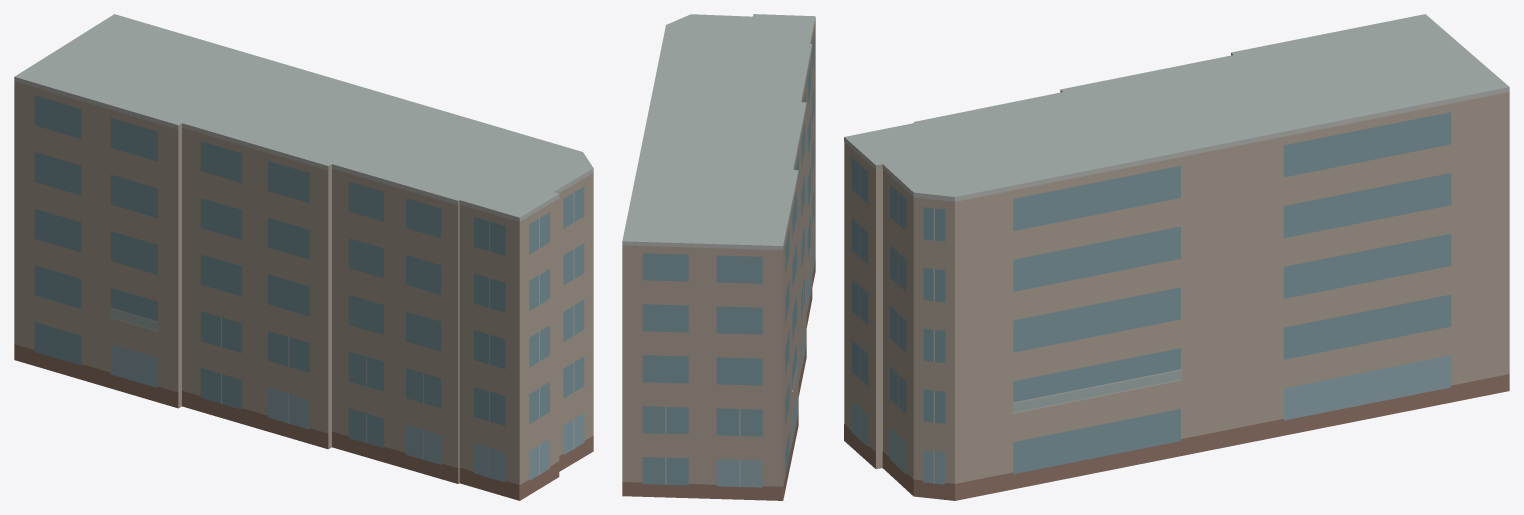
The model's file is survey-upis-32574505.glb.
3 renders of one model, left to right at view 1: azimuth 30°, elevation 25°; view 2: azimuth 150°, elevation 25°; view 3: azimuth 270°, elevation 25°, orthographic. The views are drawn at different scales.
Visible parts, largest first — view 1: survey-upis-32574505.tmp; view 2: survey-upis-32574505.tmp; view 3: survey-upis-32574505.tmp.
Part boxes in pixels (left/top/right/bottom): survey-upis-32574505.tmp: left=14, top=14, right=593, bottom=500; survey-upis-32574505.tmp: left=622, top=14, right=815, bottom=500; survey-upis-32574505.tmp: left=844, top=14, right=1509, bottom=500.
Size of the model in its own units: 19.78 by 15.31 by 30.4.
